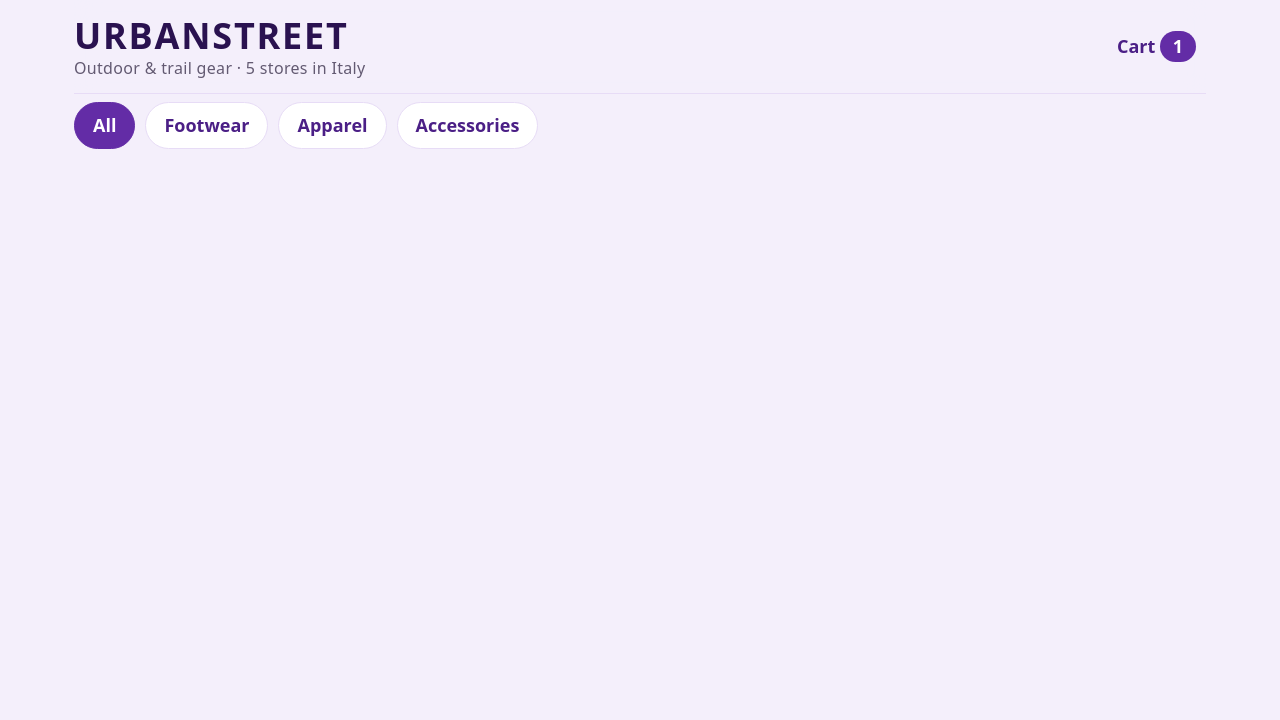
Test case: a sold-out item with a near restock and an alternative › a confident "none" with a near restock lists the alternatives at full price and offers to wait
Expected: the text with test id "cart-count" reads "1", [1173,34,1183,58]
Click the button "Cart 1".
click(1156, 47)  # box [1107,25,1206,68]
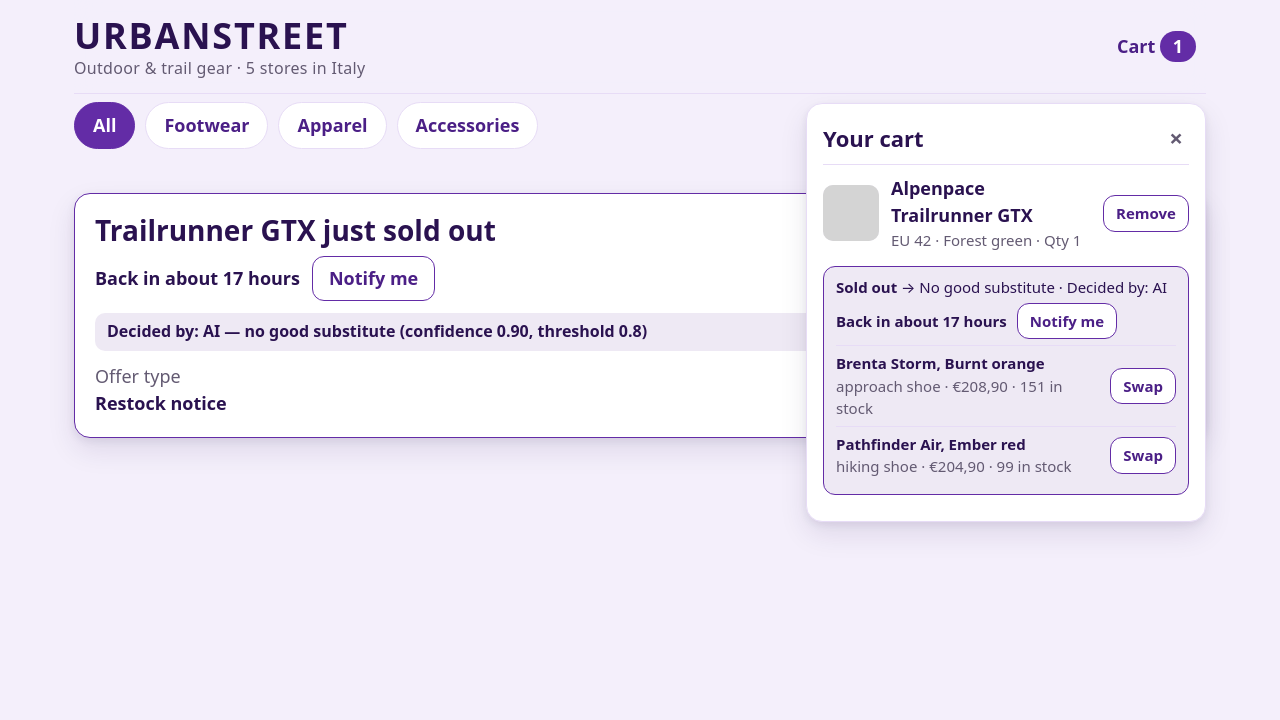
Result: the element with test id "cart-offer-line" reads "Sold out → No good substitute · Decided by: AI" at [836,277,1176,297]
Result: the button "Notify me" below "· Decided by:" is shown at [1017,303,1117,339]
